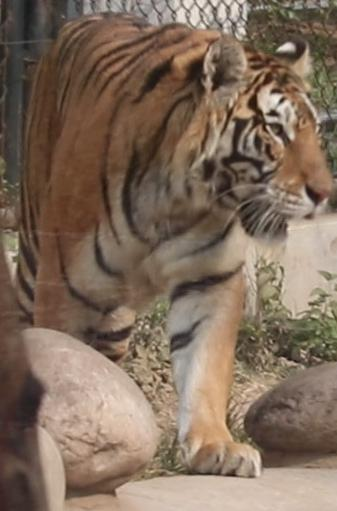tiger: (16, 13, 332, 475)
